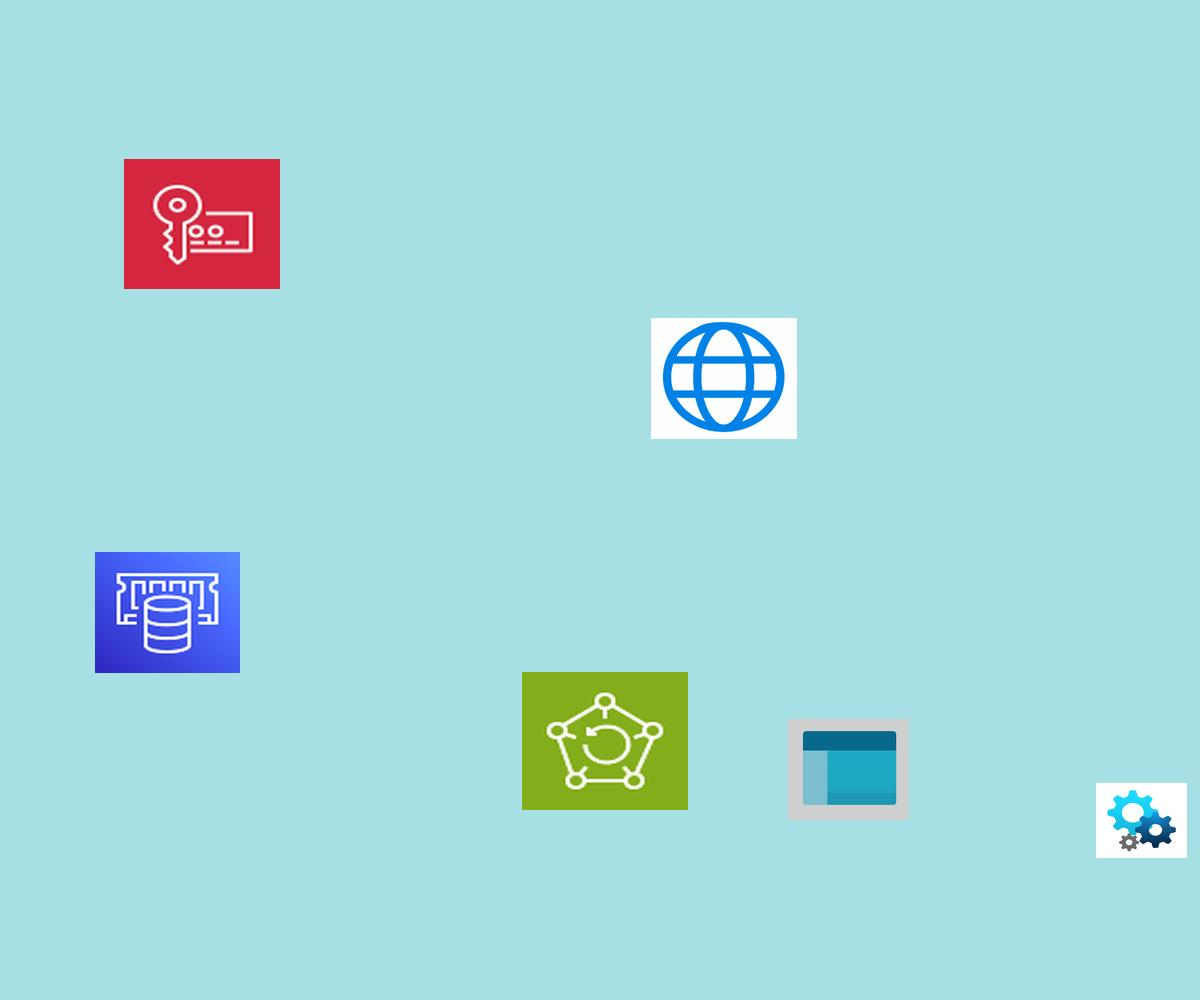AWS-Backup: (522, 672, 688, 810)
AWS-ElastiCache: (95, 552, 240, 673)
AWS-Key-Management-Service: (124, 159, 280, 289)
Azure_api: (1096, 783, 1187, 858)
Azure_http: (651, 318, 797, 439)
Azure_management-portal: (788, 719, 909, 820)
